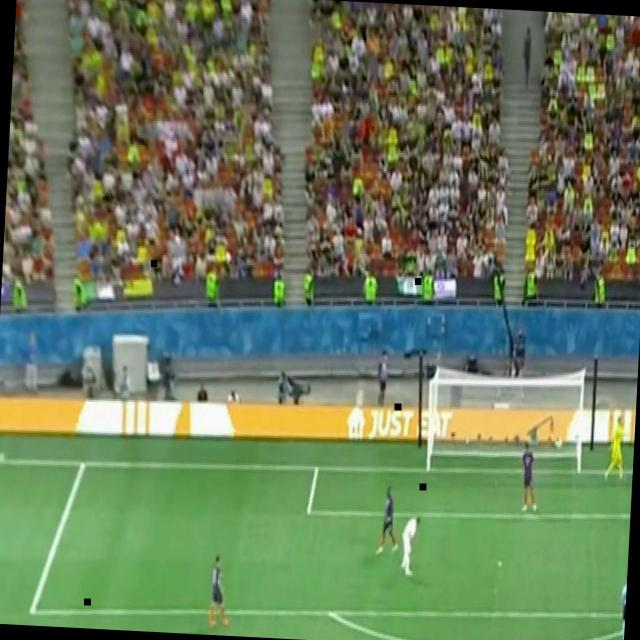player-white: (205, 546, 235, 634), (374, 483, 404, 561), (517, 436, 543, 520), (602, 409, 630, 487), (396, 510, 422, 583), (614, 566, 628, 640), (626, 449, 634, 529), (511, 637, 534, 640)
